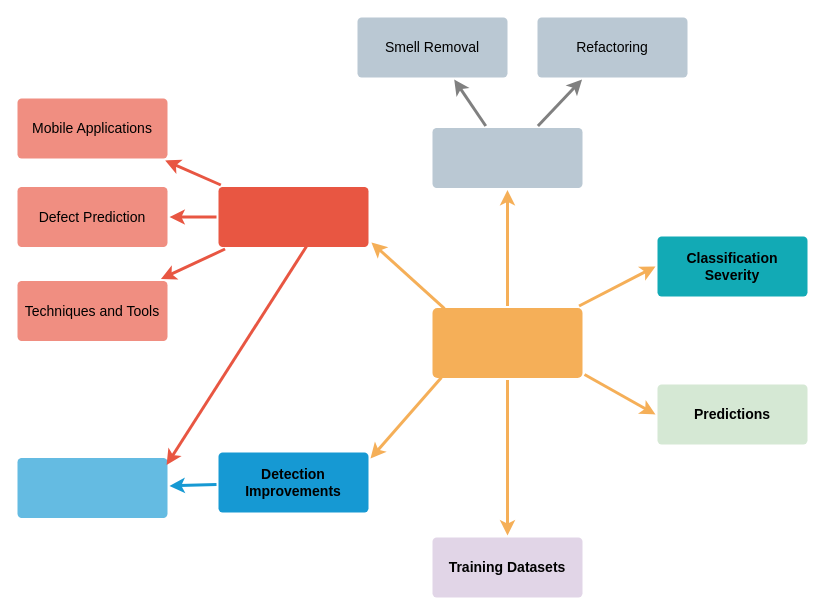
Some shapes in this 824 by 614 pixel diagram are drawn without their labels. Here are the shapes that lost their labels. From the top down, the centre of each, then its label:
At pixel 507 158: "Correction and Refactoring".
At pixel 293 216: "Detection".
At pixel 507 343: "Code Smells and Machine Learning".
At pixel 92 488: "Deep Learning".
